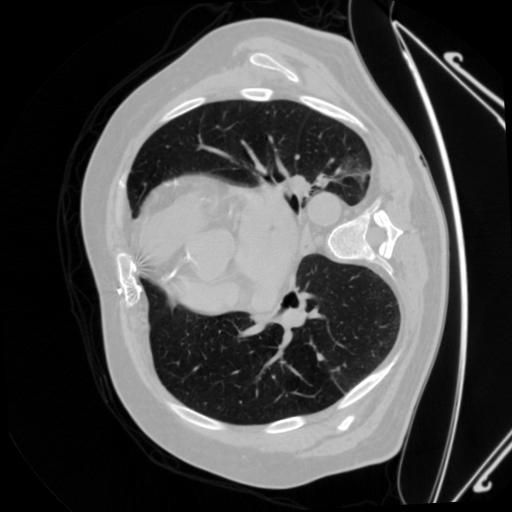nodule: (292, 153, 304, 165)
